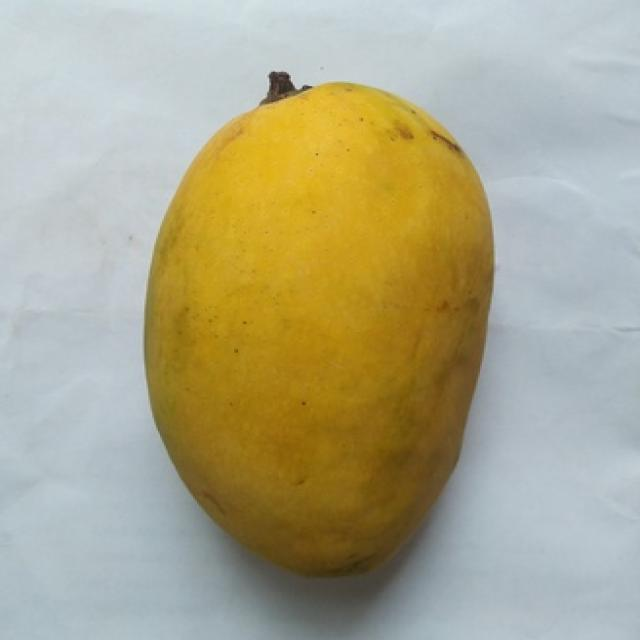Mango: (144, 73, 492, 573)
